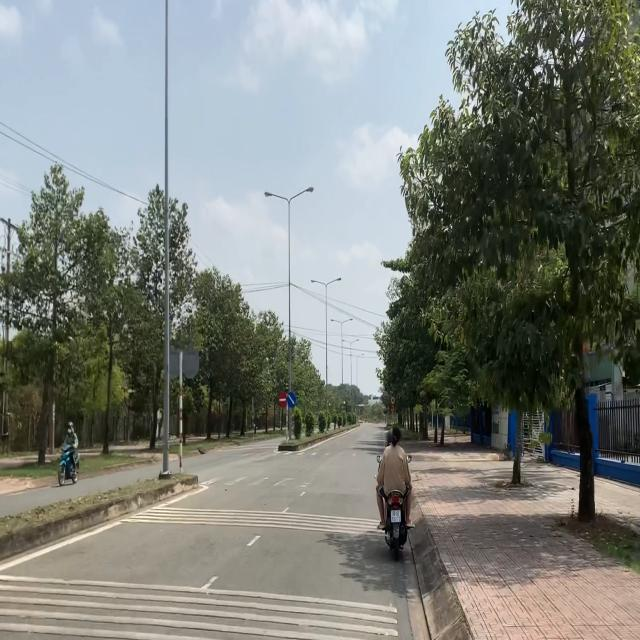Cam nguoc chieu: (278, 392, 287, 408)
Hieu lenh: (287, 392, 296, 408)
